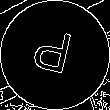P_S: (31, 26, 79, 84)
